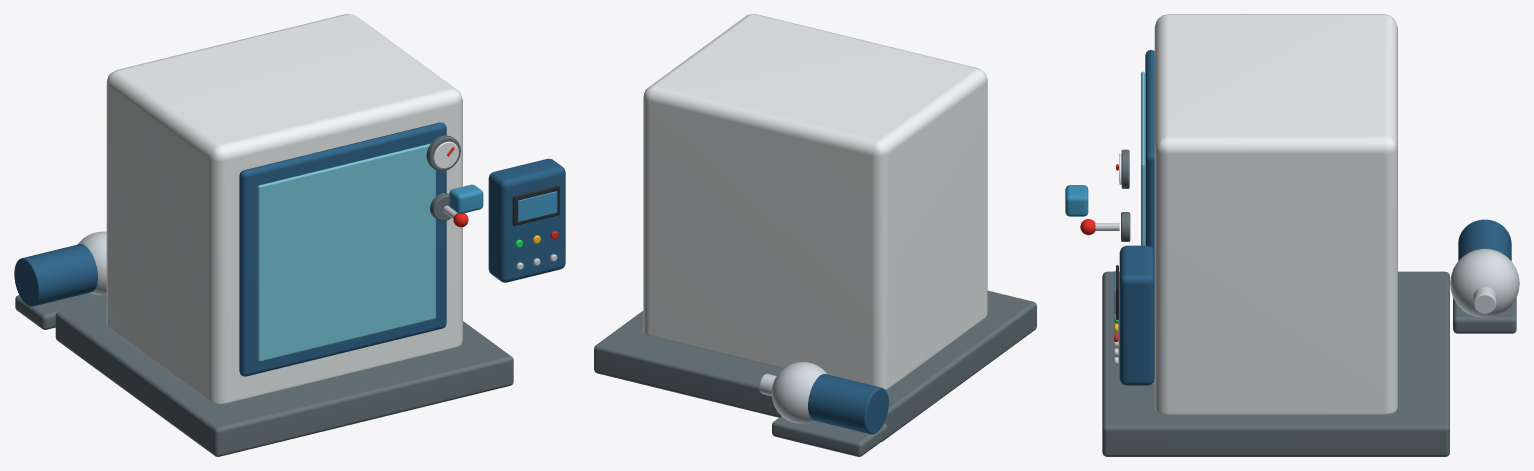
The model's file is THM.glb.
3 views of the same model, side by side, from view 1: azimuth 30°, elevation 25°; view 2: azimuth 150°, elevation 25°; view 3: azimuth 270°, elevation 25° (orthographic). The views are drawn at different scales.
Parts seen in each view (by area): view 1: body; view 2: body; view 3: body.
Part boxes in pixels (bbox=[...]): body: bbox=[14, 14, 565, 456]; body: bbox=[594, 14, 1036, 456]; body: bbox=[1065, 14, 1519, 456].
Bounding box in the file's own units: 3.97 × 2.9 × 3.92.
